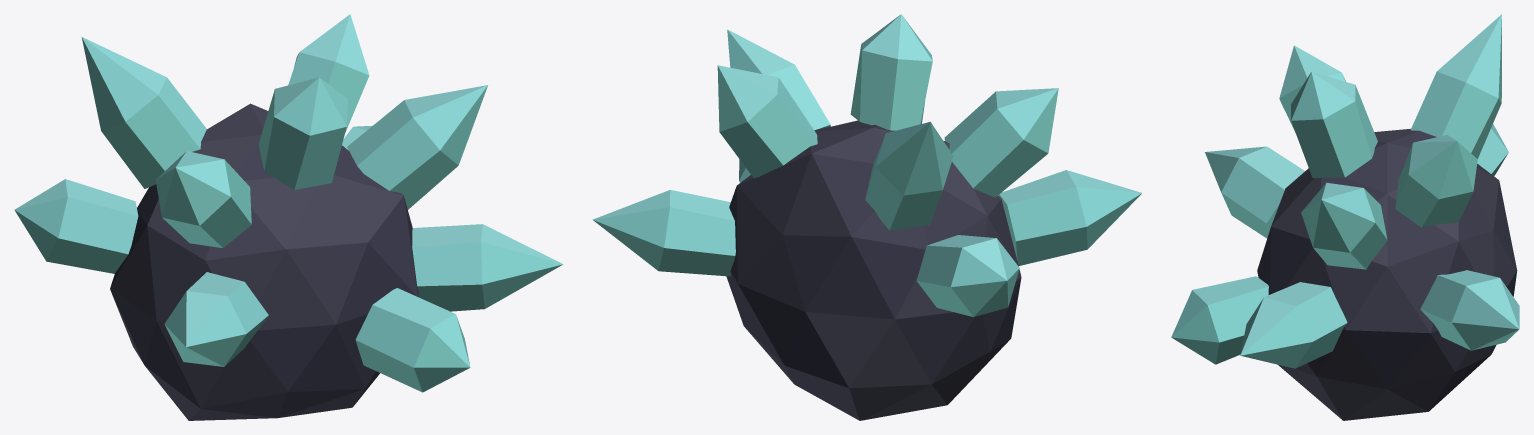
Rendered from Rocks_Ore_Starite_v3_CyanVoid.glb.
The picture shows the model from 3 angles, left to right: view 1: azimuth 30°, elevation 25°; view 2: azimuth 150°, elevation 25°; view 3: azimuth 270°, elevation 25°; orthographic projection. The views are drawn at different scales.
Parts seen in each view (by area): view 1: Rocks_Ore_Starite_v3_CyanVoid; view 2: Rocks_Ore_Starite_v3_CyanVoid; view 3: Rocks_Ore_Starite_v3_CyanVoid.
Part boxes in pixels (x1,y1,x2,y2): Rocks_Ore_Starite_v3_CyanVoid: [14, 14, 563, 420]; Rocks_Ore_Starite_v3_CyanVoid: [592, 14, 1141, 420]; Rocks_Ore_Starite_v3_CyanVoid: [1171, 14, 1519, 420].
Bounding box in the file's own units: 3.17 × 2.64 × 2.52.
